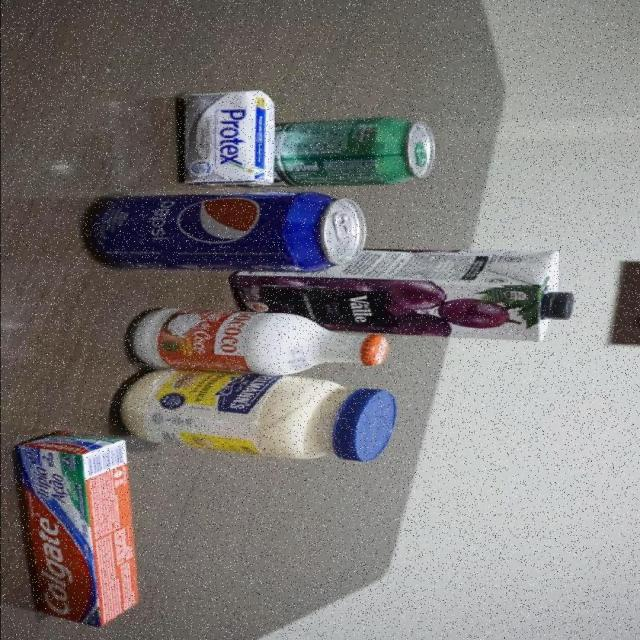BeerCan: (274, 118, 434, 188)
CoconutMilk: (129, 308, 388, 375)
Mayonnaise: (114, 373, 394, 460)
Soap: (176, 91, 278, 188)
SodaCan: (87, 192, 365, 272)
Toothpaste: (17, 430, 141, 628)
